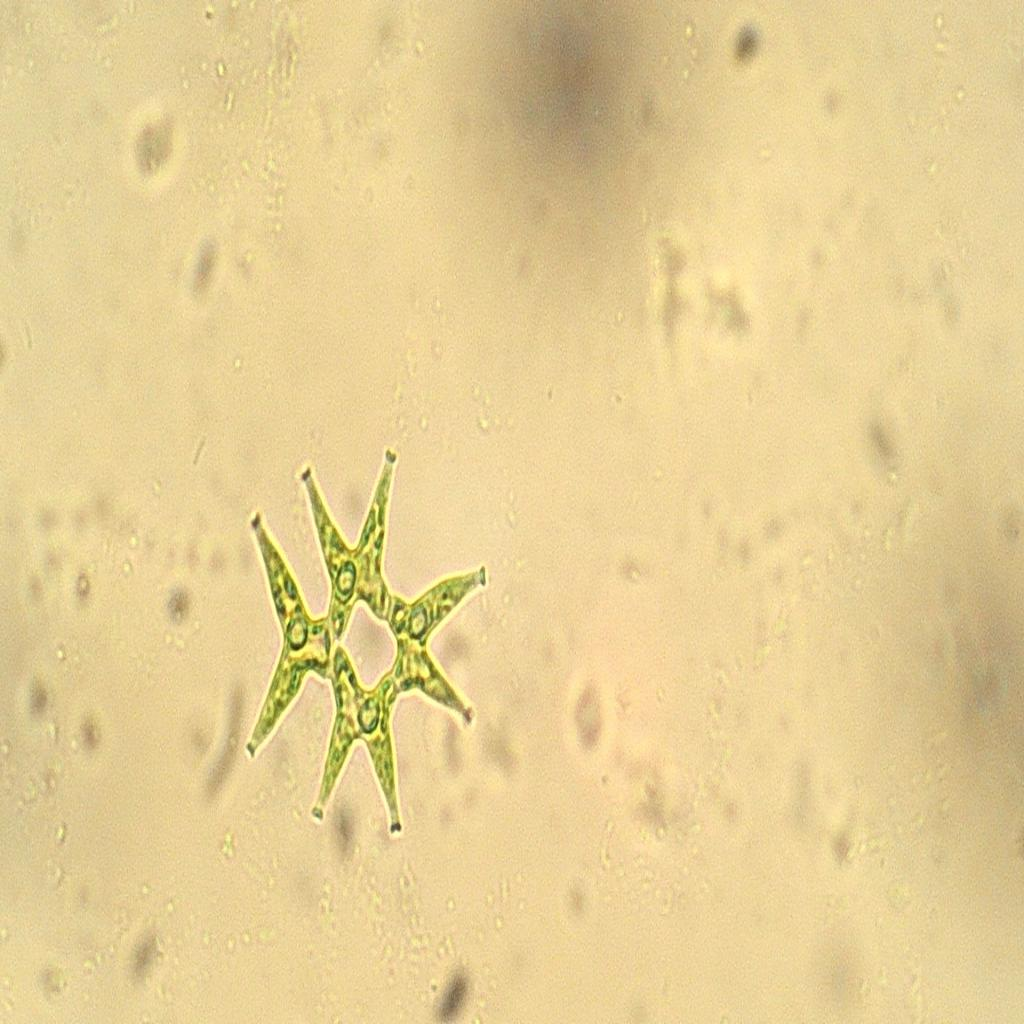Pediastrum_CT: (232, 444, 496, 862)
